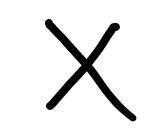mult: (44, 17, 137, 123)
